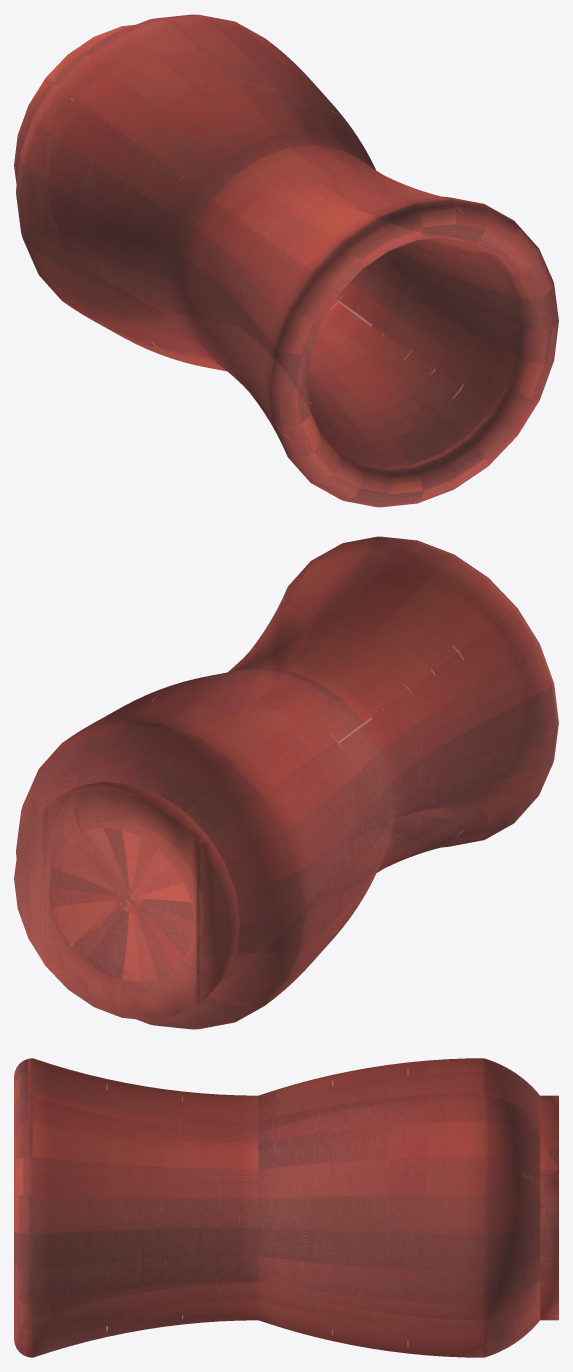
Rendered from model_align.obj.
3 views of the same model, one above another, from view 1: azimuth 30°, elevation 25°; view 2: azimuth 150°, elevation 25°; view 3: azimuth 270°, elevation 25° (orthographic). The views are drawn at different scales.
Parts seen in each view (by area): view 1: mesh1_mesh1-geometry; view 2: mesh1_mesh1-geometry; view 3: mesh1_mesh1-geometry.
Boxes of the visible parts, left/top/right/bottom form: mesh1_mesh1-geometry: left=14, top=14, right=558, bottom=507; mesh1_mesh1-geometry: left=14, top=536, right=558, bottom=1029; mesh1_mesh1-geometry: left=14, top=1058, right=558, bottom=1357.
Size of the model in its own units: 0.1328 by 0.1328 by 0.2408.
